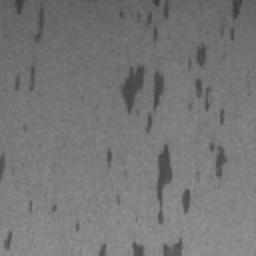Red iron sheet: (28, 0, 251, 256), (14, 0, 45, 92), (3, 232, 13, 251), (0, 154, 6, 173)
